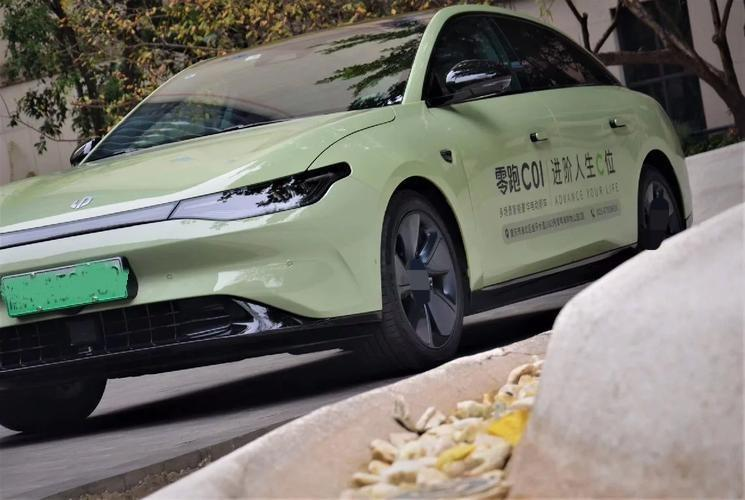LEAPMOTOR: (70, 195, 94, 209)
